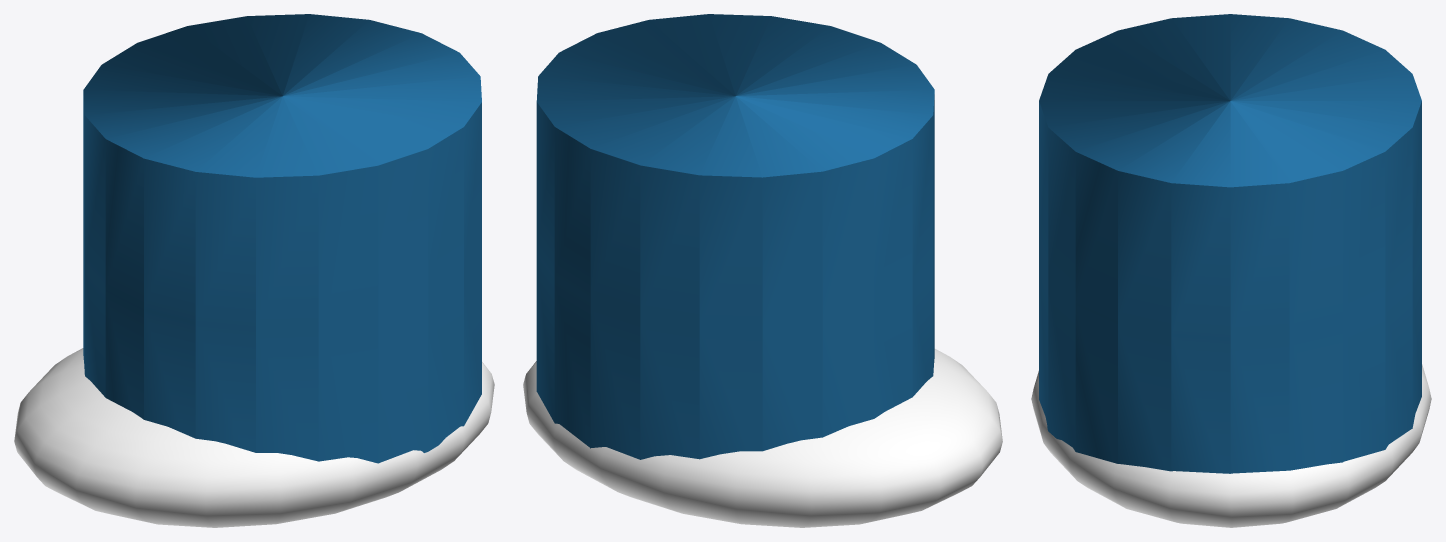
File: DoraemonLeftLeg.obj
3 renders of one model, left to right at view 1: azimuth 30°, elevation 25°; view 2: azimuth 150°, elevation 25°; view 3: azimuth 270°, elevation 25°, orthographic.
Visible parts, largest first — view 1: pPipe1, pSphere1; view 2: pPipe1, pSphere1; view 3: pPipe1, pSphere1.
Part boxes in pixels (x1,y1,x2,y2): pPipe1: (83, 14, 481, 463); pSphere1: (14, 348, 494, 527); pPipe1: (536, 14, 934, 459); pSphere1: (523, 349, 1002, 527); pPipe1: (1039, 14, 1421, 473); pSphere1: (1031, 364, 1431, 527).
Size of the model in its own units: 0.9114 by 0.7545 by 0.715.
Materials: 1 (1 with a texture image).
